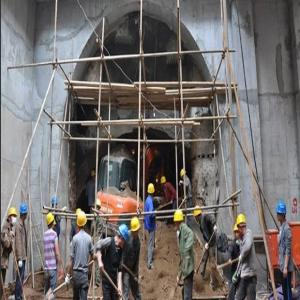blue: (277, 198, 289, 226), (19, 202, 29, 224), (52, 196, 59, 212)
yellow: (7, 206, 18, 230), (131, 215, 142, 239), (237, 212, 247, 238), (77, 211, 88, 234), (174, 208, 185, 230), (47, 212, 57, 233), (194, 206, 203, 225), (232, 223, 240, 241), (148, 182, 156, 199), (180, 167, 187, 180), (160, 176, 167, 188)
